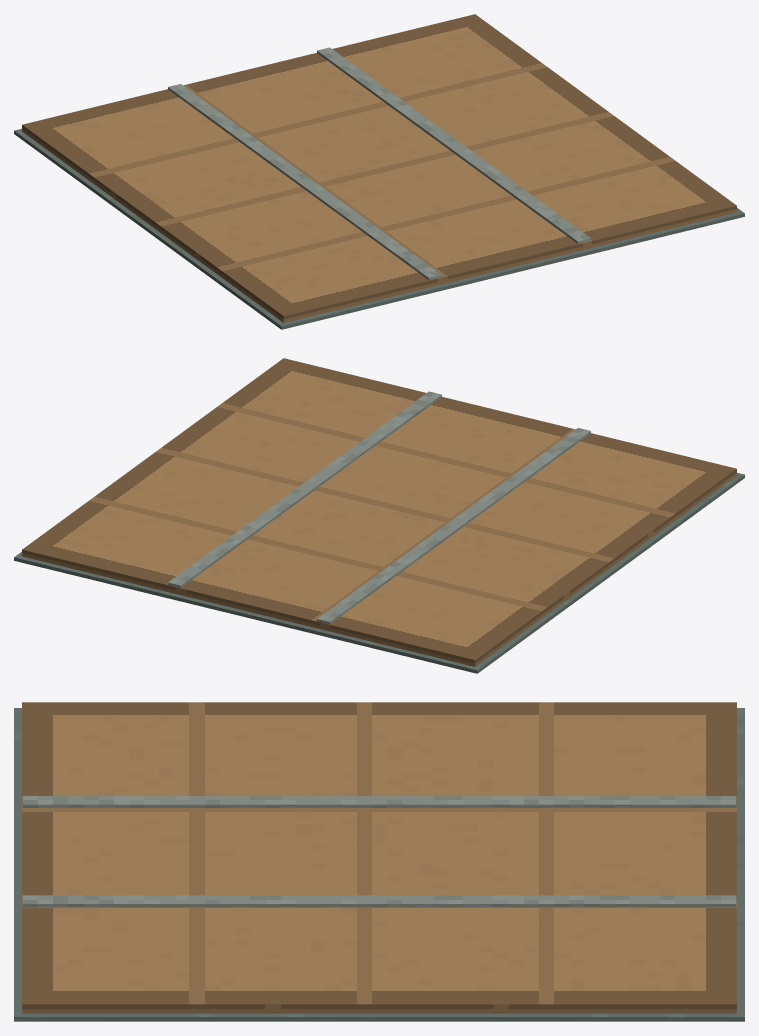
File: f_cardboard_floor.glb
3 renders of one model, top to bottom at view 1: azimuth 30°, elevation 25°; view 2: azimuth 150°, elevation 25°; view 3: azimuth 270°, elevation 25°, orthographic. The views are drawn at different scales.
Parts seen in each view (by area): view 1: block_sheet, block_duct-tape-seam (×2), block_plastic-underlay; view 2: block_sheet, block_duct-tape-seam (×2), block_plastic-underlay; view 3: block_sheet, block_duct-tape-seam (×2), block_plastic-underlay.
Boxes of the visible parts, x1,y1,x2,y2 form: block_sheet: (22,14,736,322); block_duct-tape-seam (×2): (168,47,590,280); block_plastic-underlay: (14,128,744,329); block_sheet: (22,358,736,666); block_duct-tape-seam (×2): (168,391,590,624); block_plastic-underlay: (14,472,744,673); block_sheet: (22,702,736,1013); block_duct-tape-seam (×2): (22,796,736,907); block_plastic-underlay: (14,708,744,1021).
Bounding box in the file's own units: 0.995 × 0.026 × 0.995.
Materials: 1 (1 with a texture image).
